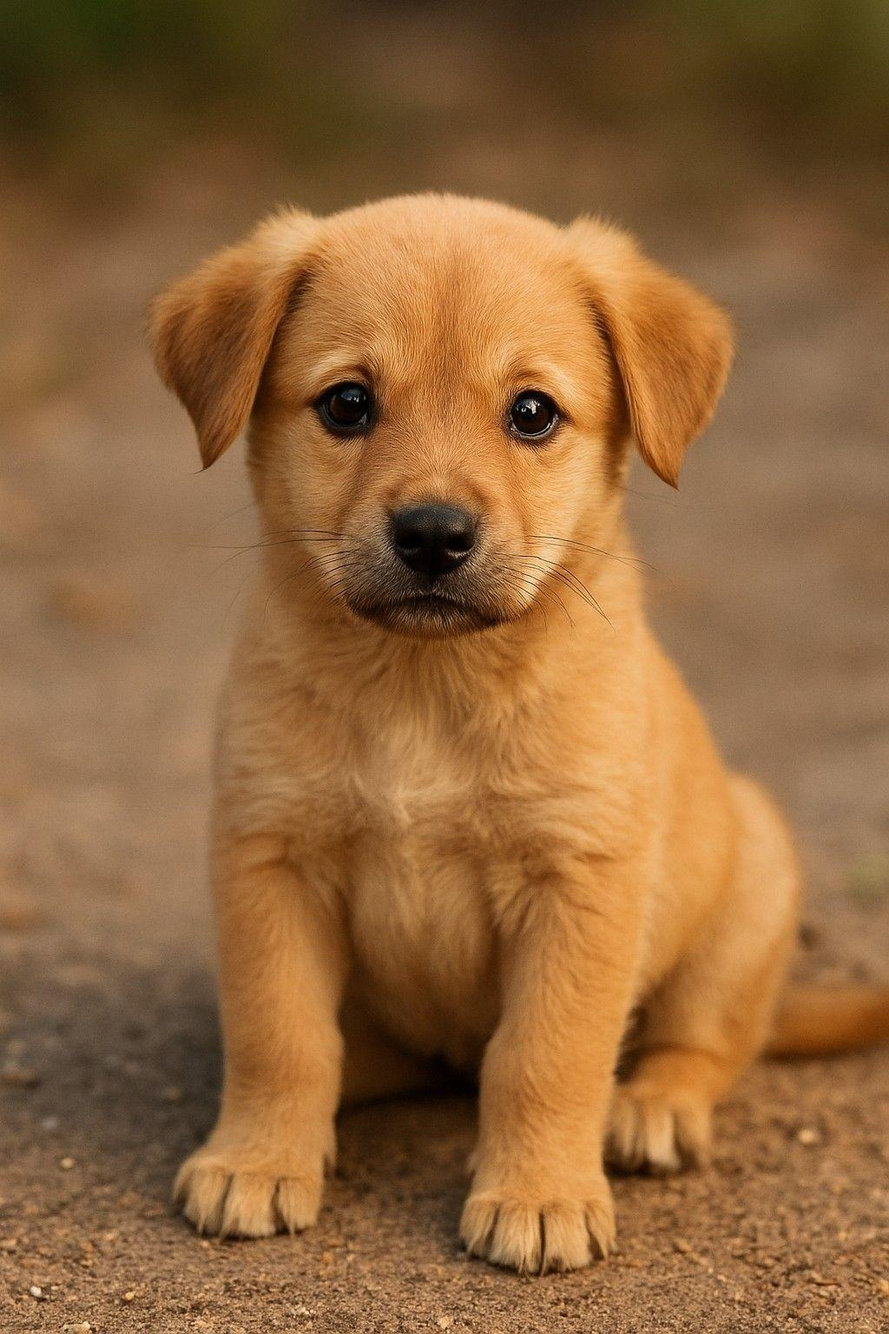puppy-dog: (146, 193, 889, 1277)
